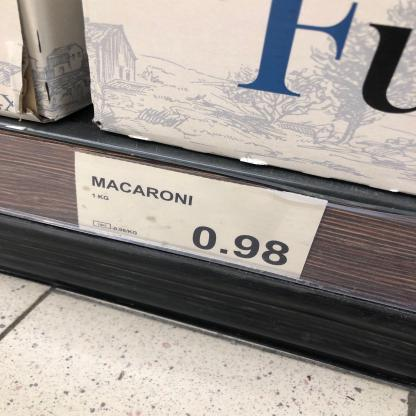prtg: (76, 153, 328, 279)
